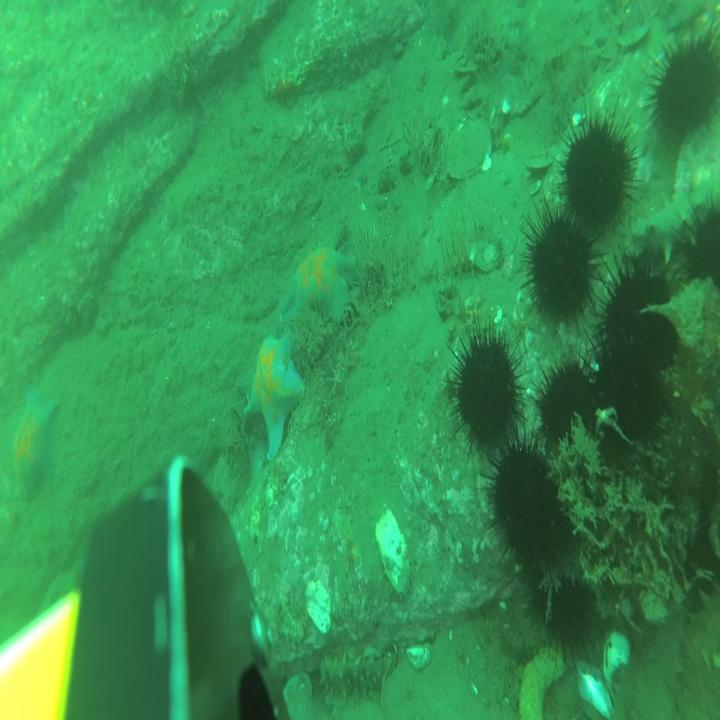echinus: (556, 94, 642, 242), (520, 188, 603, 341), (450, 310, 526, 465), (646, 20, 720, 160), (606, 238, 676, 379), (489, 431, 557, 570), (596, 332, 661, 464), (536, 340, 598, 468), (533, 554, 595, 660), (676, 189, 720, 301), (674, 512, 720, 611)
holothurian: (610, 605, 688, 720), (623, 190, 720, 265), (320, 646, 390, 701), (684, 585, 720, 666)
scallop: (446, 120, 492, 181), (277, 670, 313, 720), (470, 239, 502, 274)
starfish: (245, 325, 304, 460), (280, 243, 358, 331), (12, 380, 61, 508)
